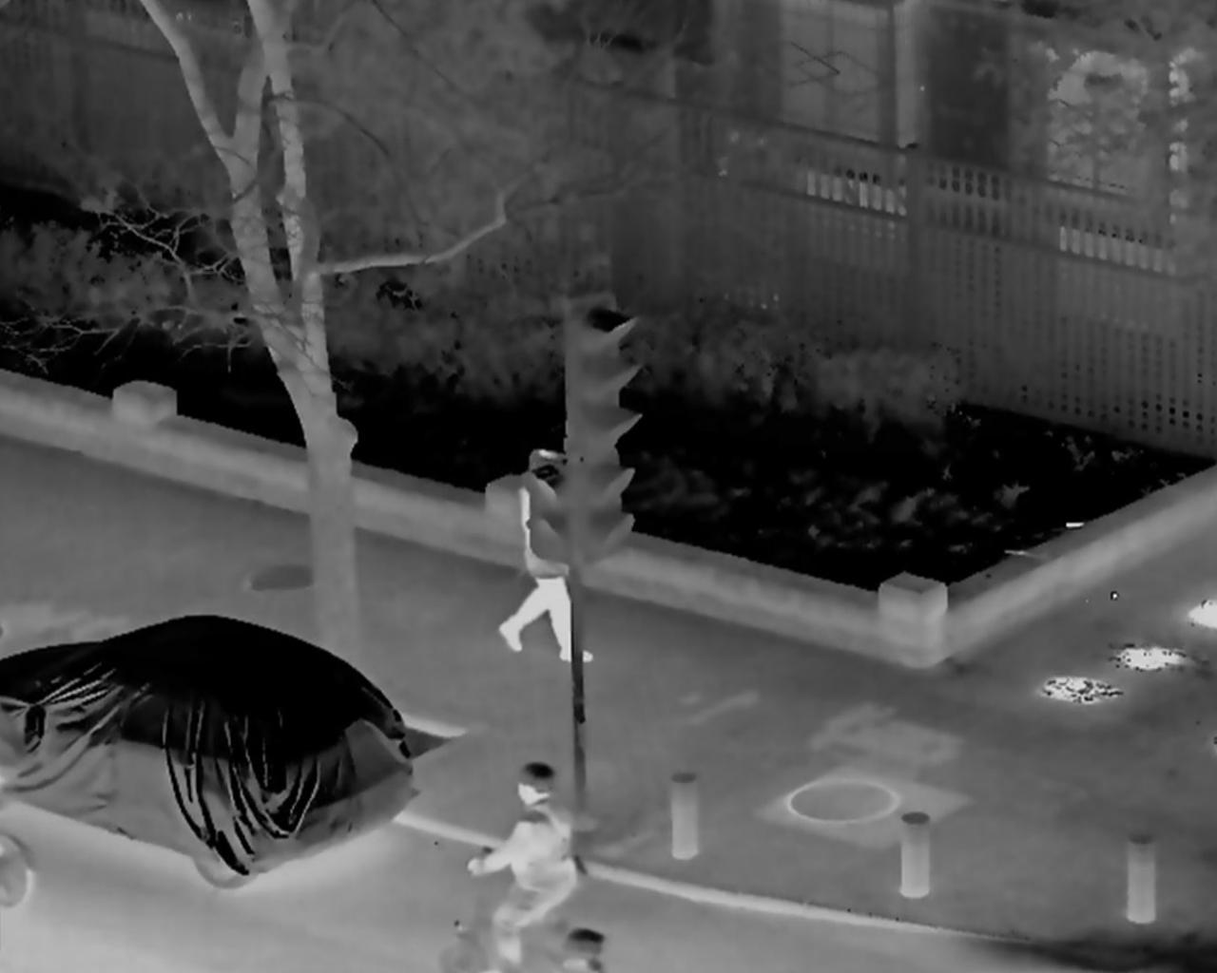person: (474, 762, 580, 968), (498, 452, 594, 669)
